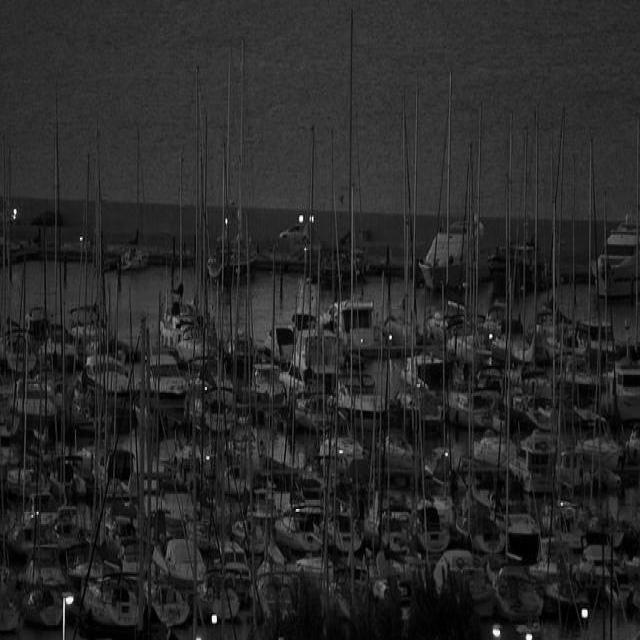vehicle: (278, 222, 315, 246), (339, 229, 391, 243)
